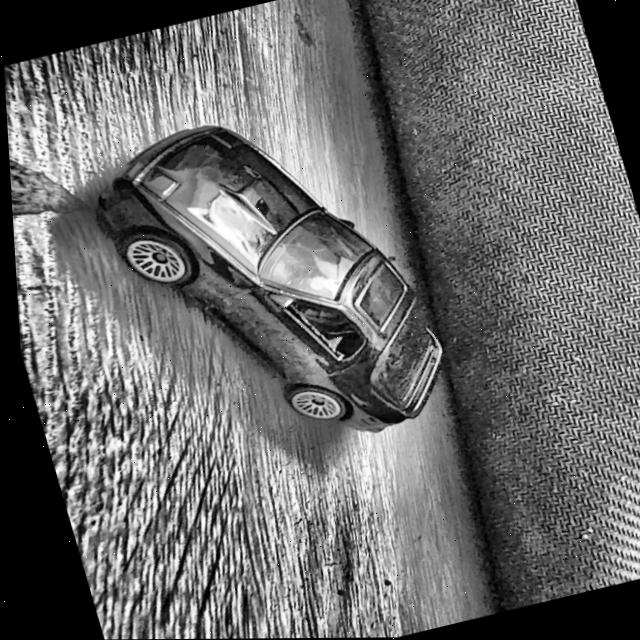car: (75, 85, 459, 482)
